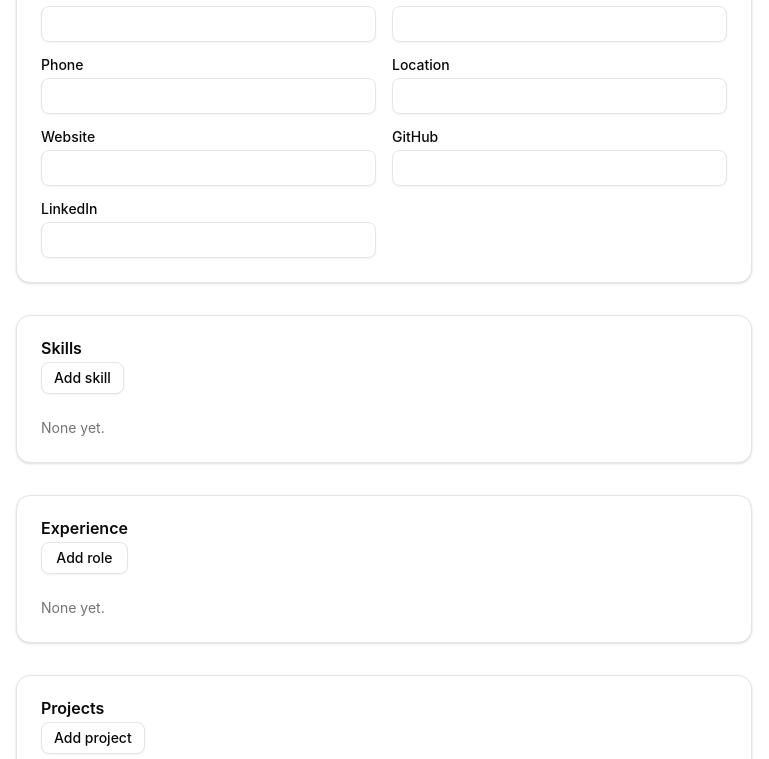
Test: AdminResumeEditorPage › adds a skill row when "Add skill" is clicked
(page scrolled)
Step 1. Click the button "Add skill" → (82, 378), box [41,362,124,394]
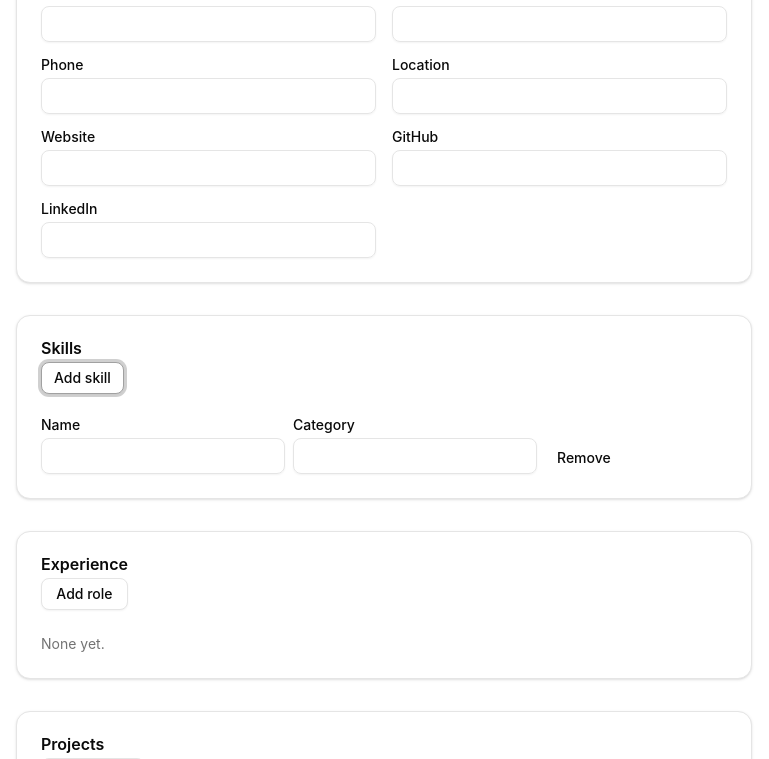
Now the number of fields labelled "Name" is 1, box [41,438,285,474]
